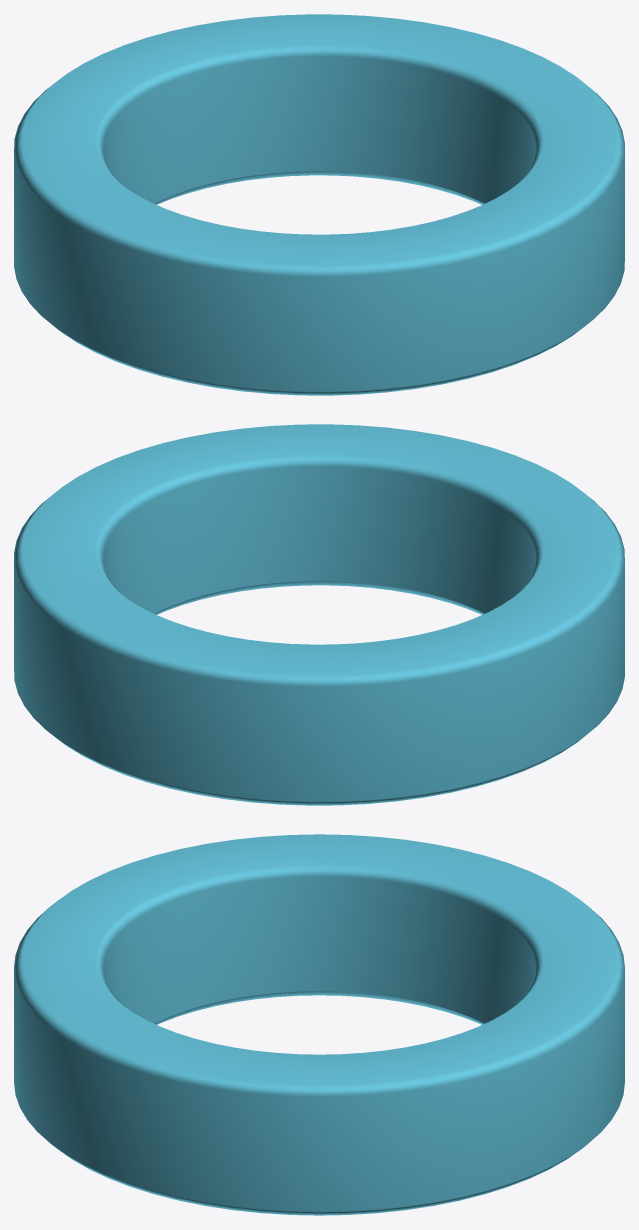
3 views of the same model, one above another, from view 1: azimuth 30°, elevation 25°; view 2: azimuth 150°, elevation 25°; view 3: azimuth 270°, elevation 25° (orthographic).
Visible parts, largest first — view 1: seal_body; view 2: seal_body; view 3: seal_body.
Boxes of the visible parts, bbox=[...] form: seal_body: bbox=[14, 14, 624, 395]; seal_body: bbox=[14, 424, 624, 805]; seal_body: bbox=[14, 834, 624, 1215].
Size of the model in its own units: 0.054 by 0.0127 by 0.054.
